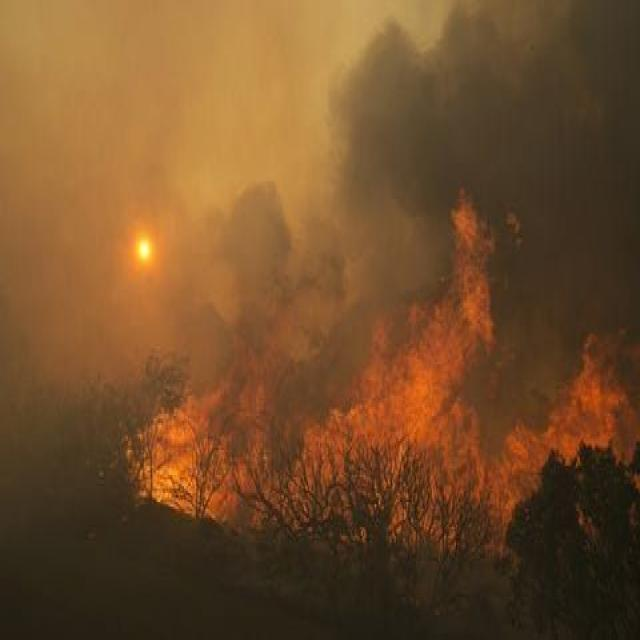Fire: (141, 220, 631, 502)
Smoke: (316, 12, 634, 376)
